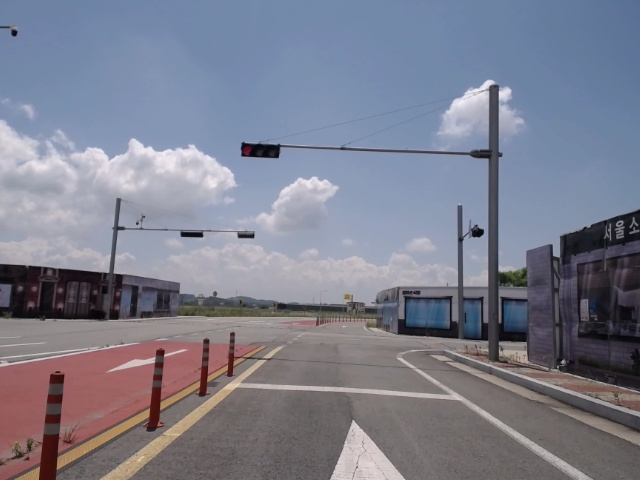red_3: (241, 143, 278, 158)
